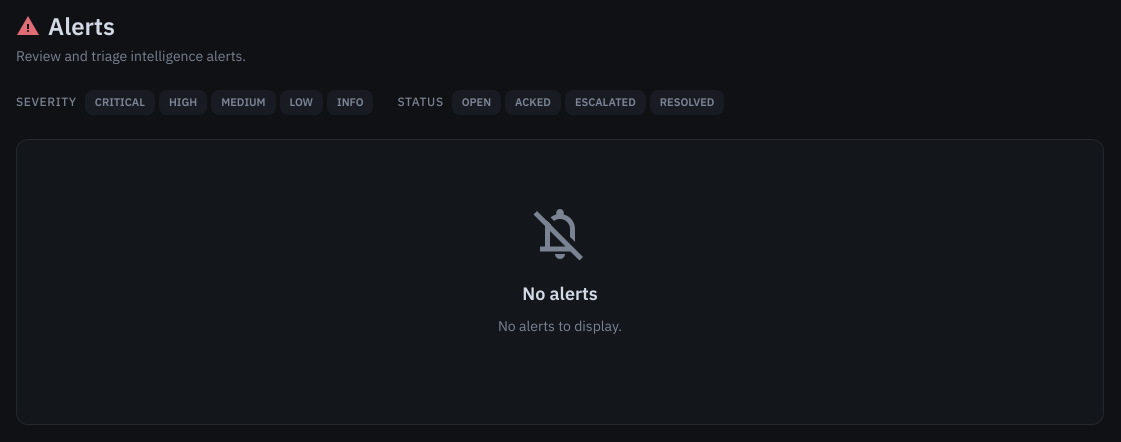
AlertsPage › shows filtered empty state message when filters active
Expected: the element with test id "alerts-filters" is shown, [16, 90, 724, 114]
What coordinates should you click on to do the following:
click the button with test id "severity-toggle-critical"
I would click on:
 (120, 102)
Its box is [85, 90, 155, 114].
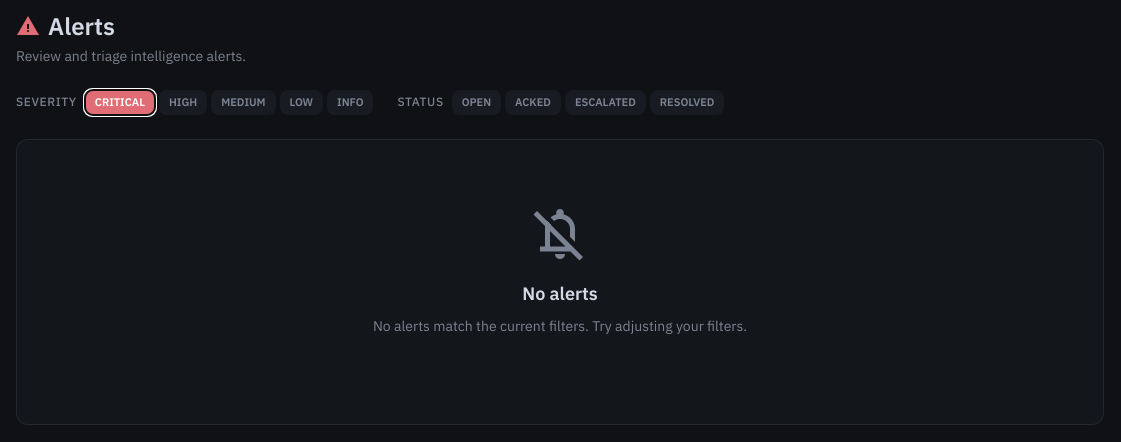
Expected: the text "No alerts match the current filters. Try adjusting your filters." is shown, [373, 316, 747, 336]
